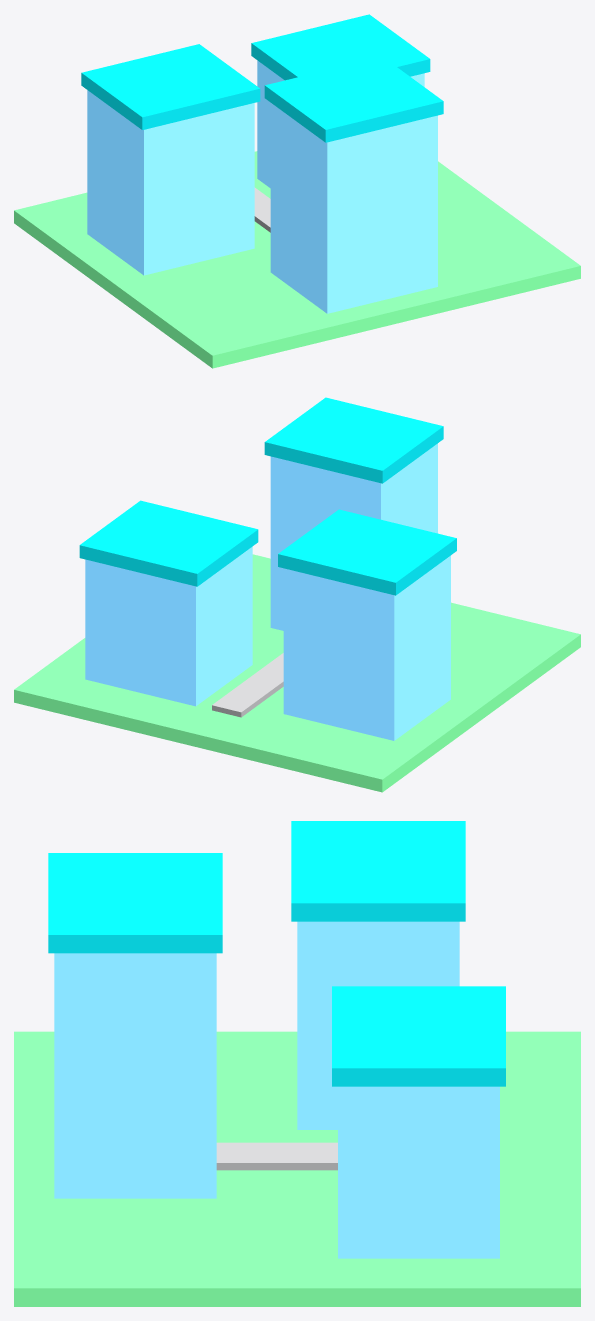
The model's file is techpark.glb.
3 renders of one model, top to bottom at view 1: azimuth 30°, elevation 25°; view 2: azimuth 150°, elevation 25°; view 3: azimuth 270°, elevation 25°, orthographic. The views are drawn at different scales.
Visible parts, largest first — view 1: techpark; view 2: techpark; view 3: techpark.
Boxes of the visible parts, x1=… form: techpark: x1=14, y1=14, x2=580, y2=368; techpark: x1=14, y1=397, x2=580, y2=792; techpark: x1=14, y1=821, x2=580, y2=1306.
Bounding box in the file's own units: 1.5 × 0.775 × 1.4.
